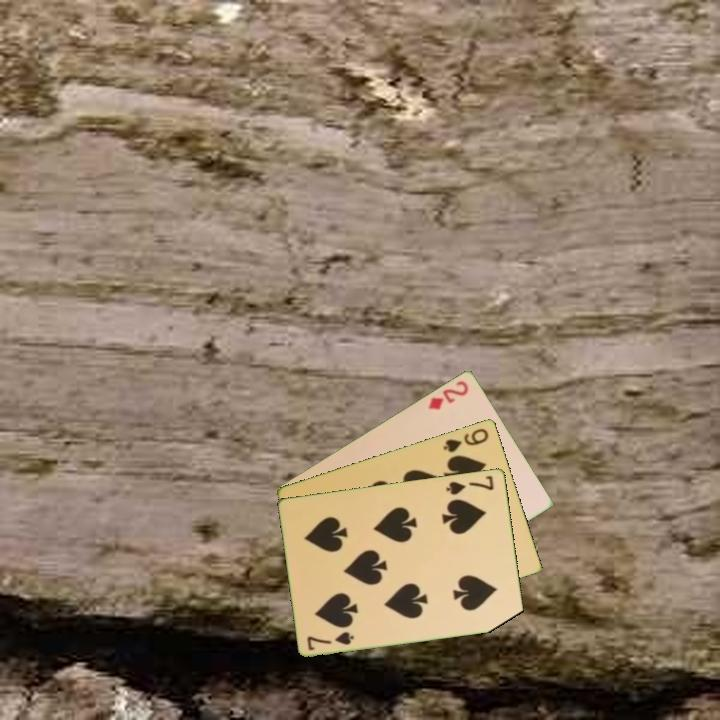2d: (425, 376, 471, 412)
7s: (443, 472, 497, 498), (304, 628, 357, 653)
9s: (440, 424, 492, 455)
